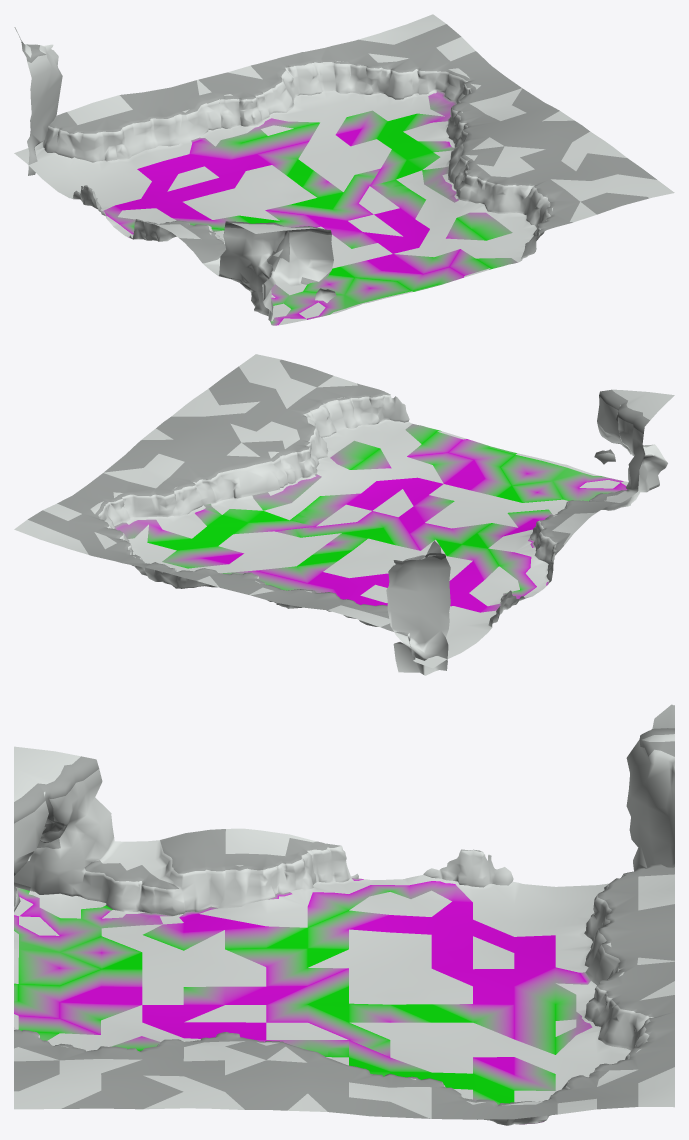
The picture shows the model from 3 angles, top to bottom: view 1: azimuth 30°, elevation 25°; view 2: azimuth 150°, elevation 25°; view 3: azimuth 270°, elevation 25°; orthographic projection. The views are drawn at different scales.
Parts seen in each view (by area): view 1: G:\FFXIV-MapTools\exports\f1f1\bg\ffxiv\fst_f1\fld\f1f1\bgpl (×13); view 2: G:\FFXIV-MapTools\exports\f1f1\bg\ffxiv\fst_f1\fld\f1f1\bgpl (×13); view 3: G:\FFXIV-MapTools\exports\f1f1\bg\ffxiv\fst_f1\fld\f1f1\bgpl (×13).
Part boxes in pixels (box(x1,y1,x2,y2)): G:\FFXIV-MapTools\exports\f1f1\bg\ffxiv\fst_f1\fld\f1f1\bgpl (×13): box(14, 14, 674, 325); G:\FFXIV-MapTools\exports\f1f1\bg\ffxiv\fst_f1\fld\f1f1\bgpl (×13): box(14, 354, 674, 675); G:\FFXIV-MapTools\exports\f1f1\bg\ffxiv\fst_f1\fld\f1f1\bgpl (×13): box(14, 704, 674, 1125).
Bounding box in the file's own units: 128 × 40.99 × 128.
